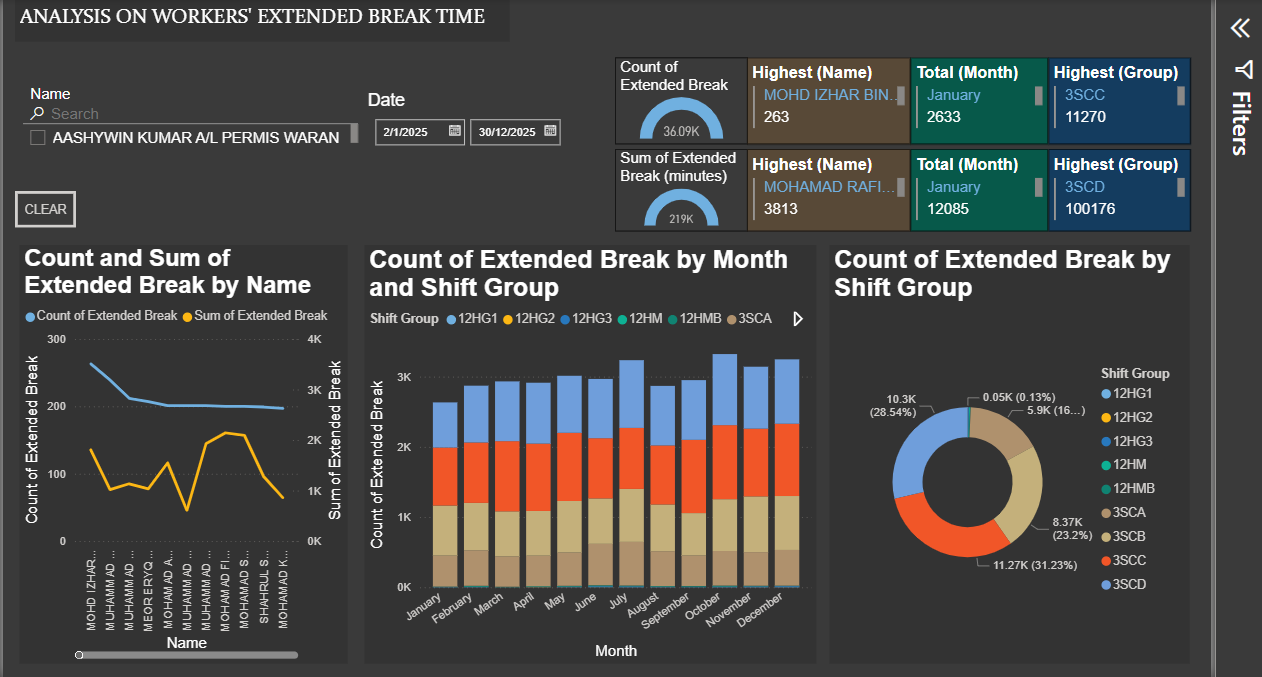

Layout of this report page (visuals, bound fields, positions):
{"tool":"powerbi","page":{"name":"ANALYSIS ON WORKERS' EXTENDED BREAK TIME","canvas":[1280,720],"ordinal":0},"visuals":[{"type":"slicer","fields":{"Values":["Data.Name"]},"box":[16.2,85.8,365.9,85.8],"z":0},{"type":"gauge","title":"Count of Extended Break","fields":{"Y":["CountNonNull(Data.Extended Break)"],"MaxValue":["CountNonNull(Data.Employee No.)"]},"box":[648.2,62.6,140.9,92.3],"z":1000},{"type":"gauge","title":"Sum of Extended Break (minutes)","fields":{"Y":["Sum(Data.Extended Break)"],"MaxValue":["Sum(Data.Extended Break)"]},"box":[648.2,159.8,140.9,87.4],"z":2000},{"type":"textbox","box":[13,0,524.6,45.3],"z":3000},{"type":"actionButton","box":[241.8,208.4,65.2,39.8],"z":4000},{"type":"slicer","title":"Date","fields":{"Values":["Data.ShiftDate"]},"box":[382.1,97.2,228.3,74.5],"z":5000},{"type":"lineChart","title":"Count and Sum of Extended Break by Name","fields":{"Category":["Data.Name"],"Y":["CountNonNull(Data.Extended Break)"],"Y2":["Sum(Data.Extended Break)1"]},"box":[17.8,260.7,348.1,443.7],"z":6000},{"type":"multiRowCard","title":"Highest (Name)","fields":{"Values":["CountNonNull(Data.Extended Break)","Data.Name"]},"box":[789.1,62.6,173.3,92.3],"z":7000},{"type":"multiRowCard","title":"Highest (Name)","fields":{"Values":["Sum(Data.Extended Break)","Data.Name"]},"box":[789.1,159.8,173.3,87.4],"z":8000},{"type":"columnChart","fields":{"Series":["Data.Shift Group"],"Category":["Data.ShiftDate.Variation.Date Hierarchy.Month"],"Y":["CountNonNull(Data.Extended Break)"]},"box":[383.8,260.7,479.3,443.7],"z":9000},{"type":"multiRowCard","title":"Total (Month)","fields":{"Values":["CountNonNull(Data.Extended Break)","Data.ShiftDate.Variation.Date Hierarchy.Month"]},"box":[962.4,62.6,145.7,92.3],"z":10000},{"type":"donutChart","fields":{"Series":["Data.Shift Group"],"Y":["CountNonNull(Data.Extended Break)"]},"box":[876,260.7,382.1,443.7],"z":12000},{"type":"multiRowCard","title":"Total (Month)","fields":{"Values":["Sum(Data.Extended Break)","Data.ShiftDate.Variation.Date Hierarchy.Month"]},"box":[962.4,159.8,145.7,87.4],"z":12001},{"type":"multiRowCard","title":"Highest (Group)","fields":{"Values":["CountNonNull(Data.Extended Break)","Data.Shift Group"]},"box":[1108.1,62.6,150.6,92.3],"z":12002},{"type":"multiRowCard","title":"Highest (Group)","fields":{"Values":["Sum(Data.Extended Break)","Data.Shift Group"]},"box":[1108.1,159.8,150.6,87.4],"z":12003},{"type":"listSlicer","fields":{"Values":["Data.Shift"]},"box":[17.5,194.1,141.6,65.2],"z":12004}]}

Visuals, with their boxes on the page's 1280x720 design canvas (x1, y1, x2, y2). These are canvas units, not pixel positions in the 1262x677 screenshot, which may show the page scaled, cropped or inside an application window:
slicer - Data.Name: detection(16, 86, 382, 172)
"Count of Extended Break" gauge: detection(648, 63, 789, 155)
"Sum of Extended Break (minutes)" gauge: detection(648, 160, 789, 247)
textbox: detection(13, 0, 538, 45)
actionButton: detection(242, 208, 307, 248)
"Date" slicer: detection(382, 97, 610, 172)
"Count and Sum of Extended Break by Name" lineChart: detection(18, 261, 366, 704)
"Highest (Name)" multiRowCard: detection(789, 63, 962, 155)
"Highest (Name)" multiRowCard: detection(789, 160, 962, 247)
columnChart - Data.Shift Group x Data.ShiftDate.Variation.Date Hierarchy.Month: detection(384, 261, 863, 704)
"Total (Month)" multiRowCard: detection(962, 63, 1108, 155)
donutChart - Data.Shift Group x CountNonNull(Data.Extended Break): detection(876, 261, 1258, 704)
"Total (Month)" multiRowCard: detection(962, 160, 1108, 247)
"Highest (Group)" multiRowCard: detection(1108, 63, 1259, 155)
"Highest (Group)" multiRowCard: detection(1108, 160, 1259, 247)
listSlicer - Data.Shift: detection(18, 194, 159, 259)
